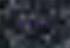nine: (32, 20, 38, 28)
one: (39, 20, 45, 28)
six: (18, 20, 24, 28), (46, 20, 52, 28)
three: (25, 20, 31, 28)
